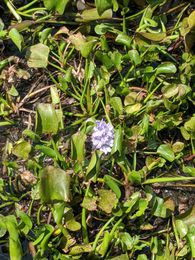water_hyacinth: (0, 24, 194, 218)
